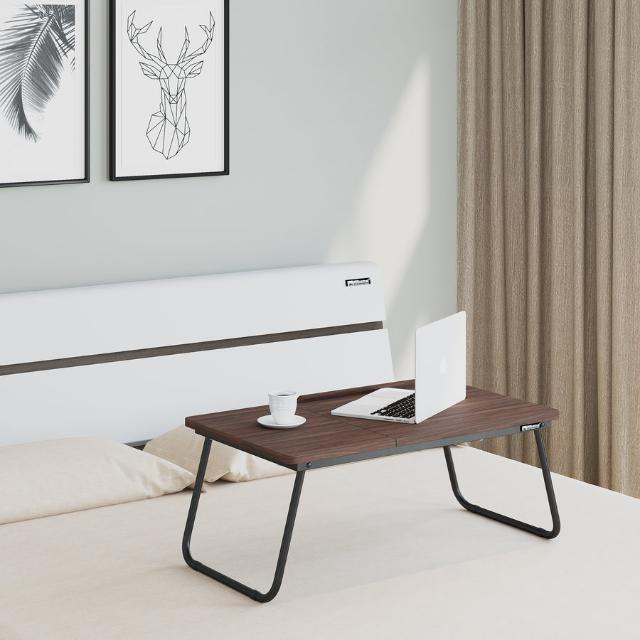obstacle: (148, 304, 640, 580)
